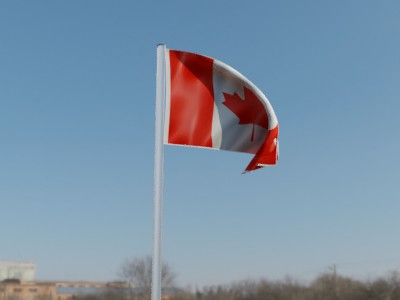Canada flag: (167, 48, 286, 173)
